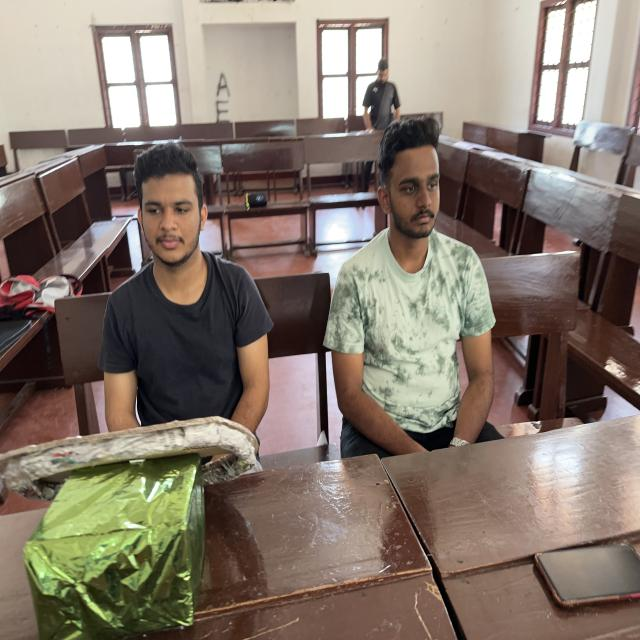no-seatbelt: (100, 252, 277, 494), (322, 238, 502, 472)
